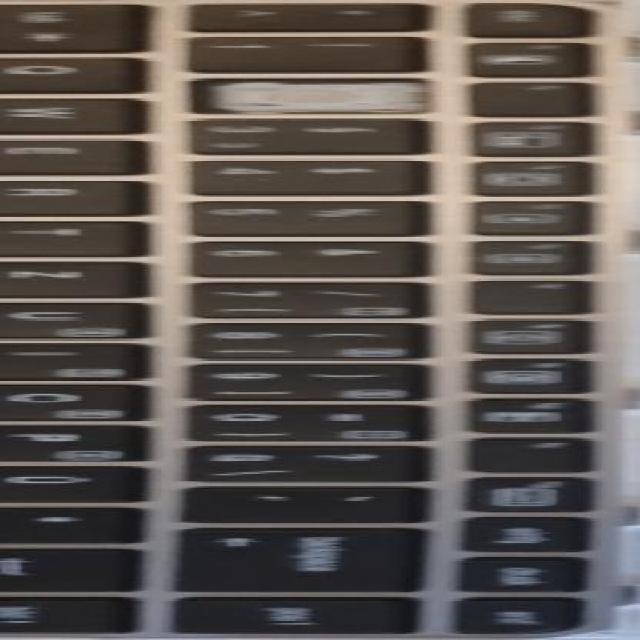Keyboard problems: (206, 82, 426, 112)
